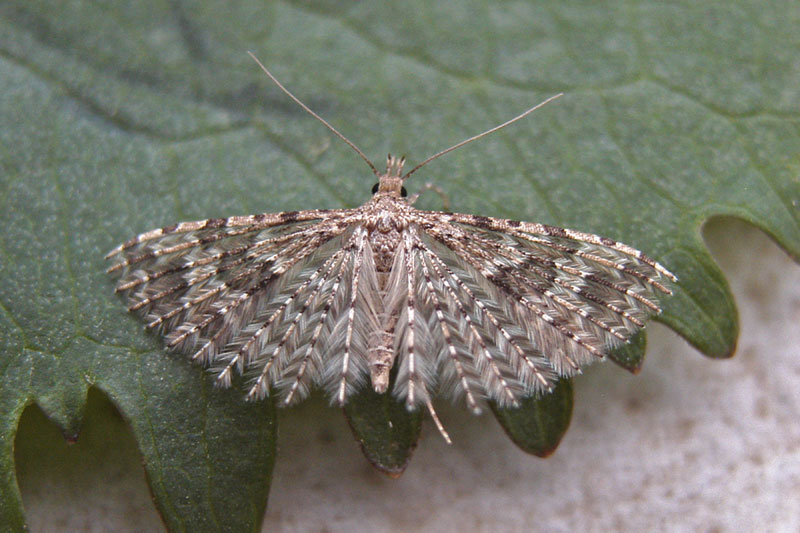Alucitidae: (99, 46, 680, 452)
moth: (101, 48, 682, 454)
